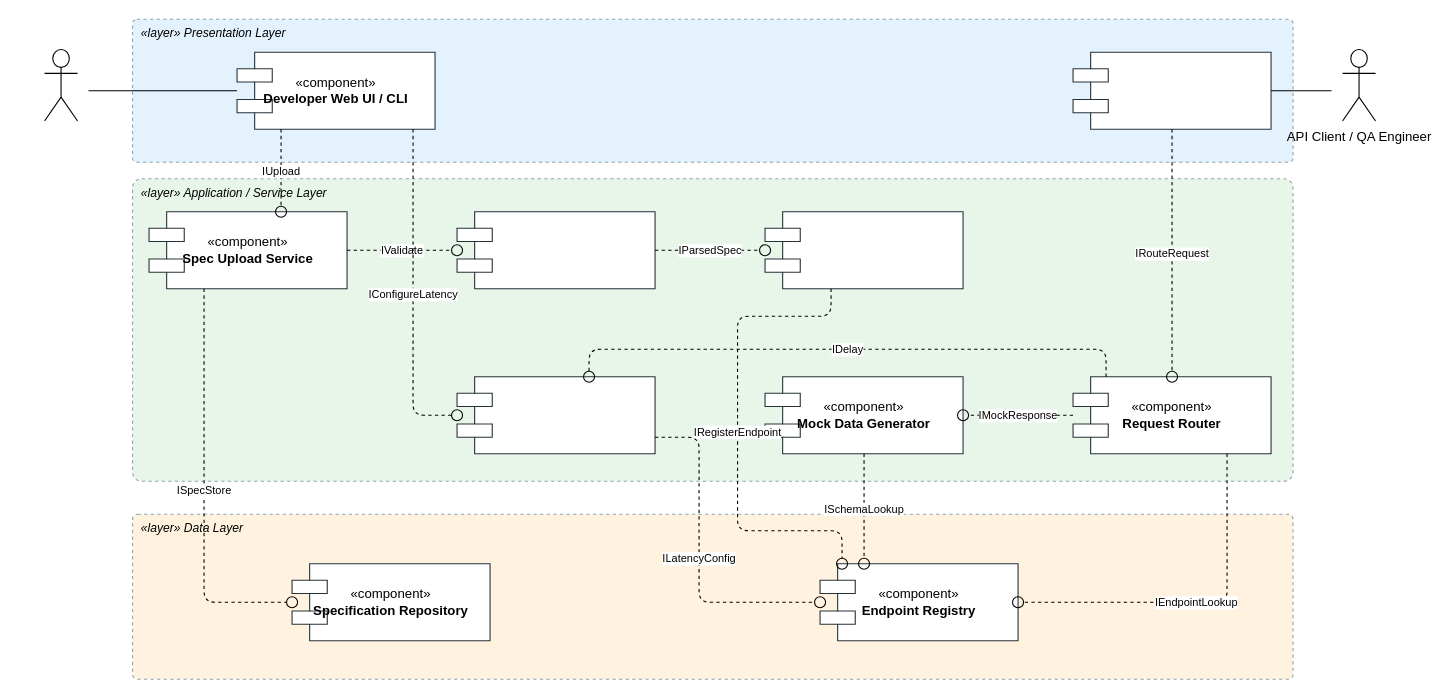
Image size: 1450x699. Some labels were removed from this diagram. The shapes that lost their labels are listed below. From the top down, each one's centre as x and y in pixels, then its label:
the point at 60,84: API Developer
the point at 1171,90: «component» Mock HTTP Gateway
the point at 555,250: «component» Spec Parser & Validator
the point at 863,250: «component» Endpoint Generator
the point at 555,415: «component» Latency Simulator
